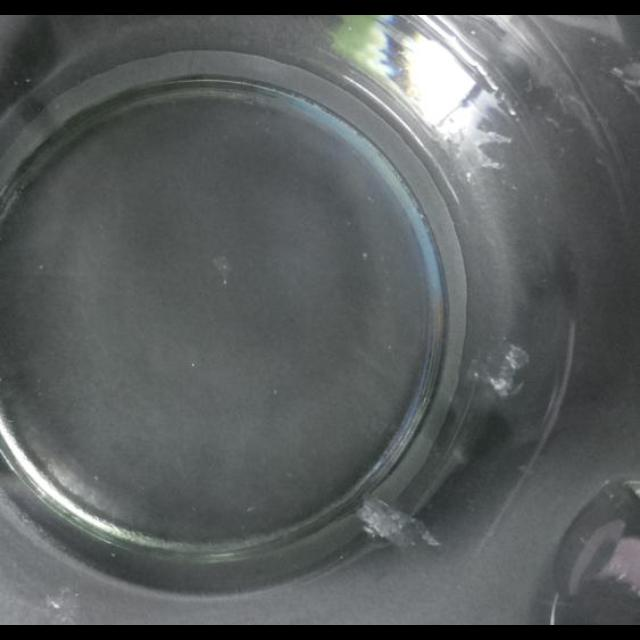Fibre: (359, 497, 439, 553), (472, 340, 530, 400), (212, 255, 234, 285)
microbeads: (468, 130, 512, 170), (49, 600, 61, 610)
